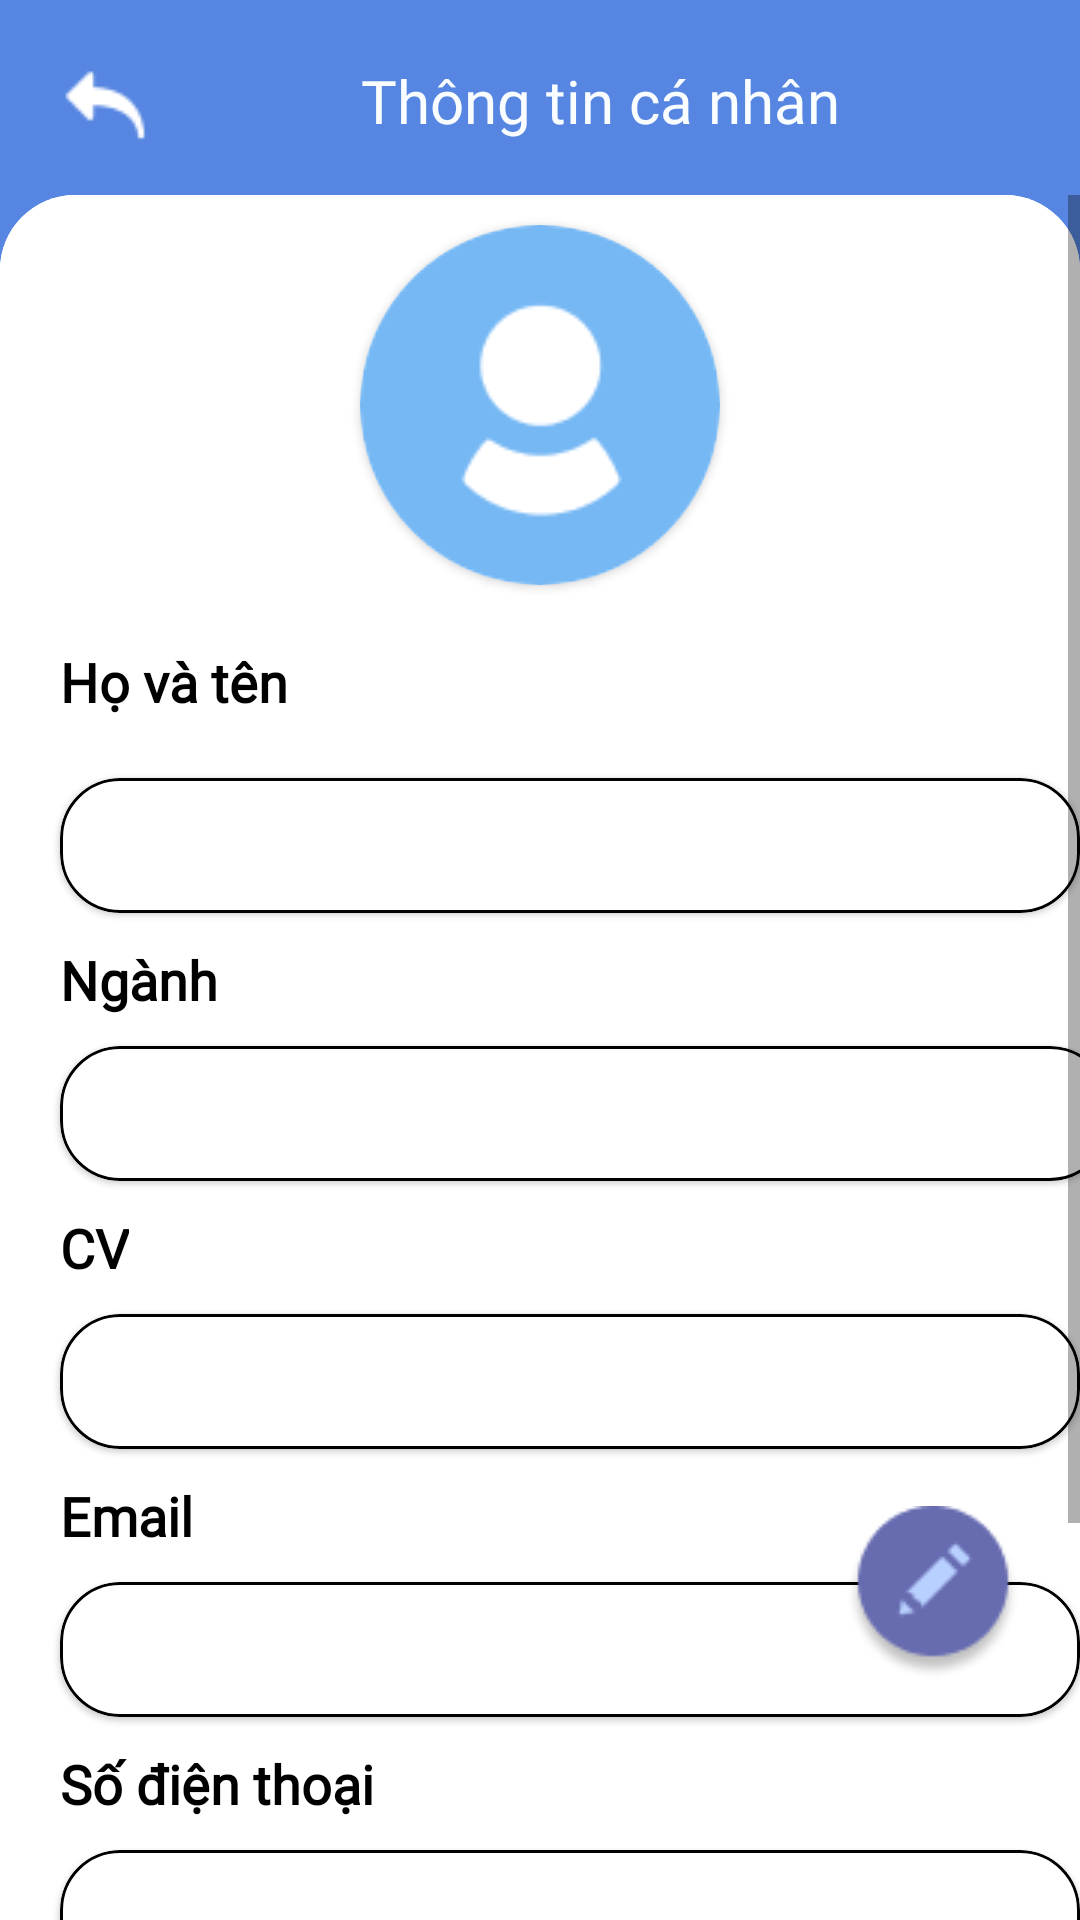

Locate icon controls on the screen. Image size 1080×1920, boxes as [left=x1, top=y1, right=x2, bottom=y2].
backarrow: [left=65, top=71, right=145, bottom=139]
edit: [left=846, top=1506, right=1020, bottom=1669]
